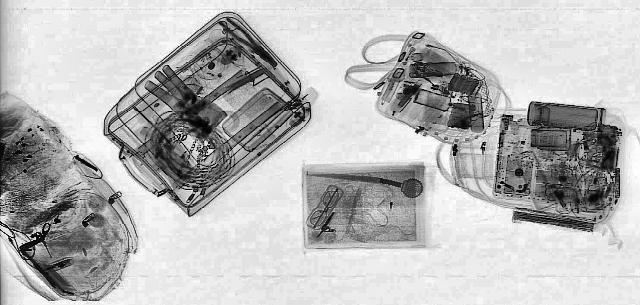Pliers: (212, 16, 284, 68)
